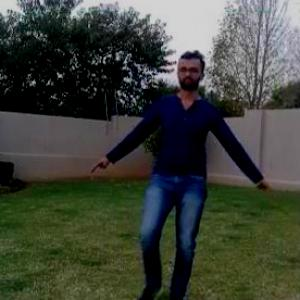land: (73, 48, 272, 288)
